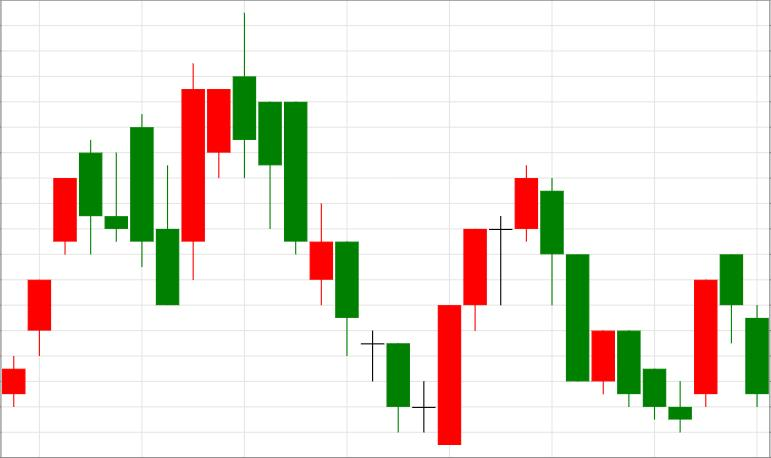morning_star_rise: (540, 177, 717, 432)
